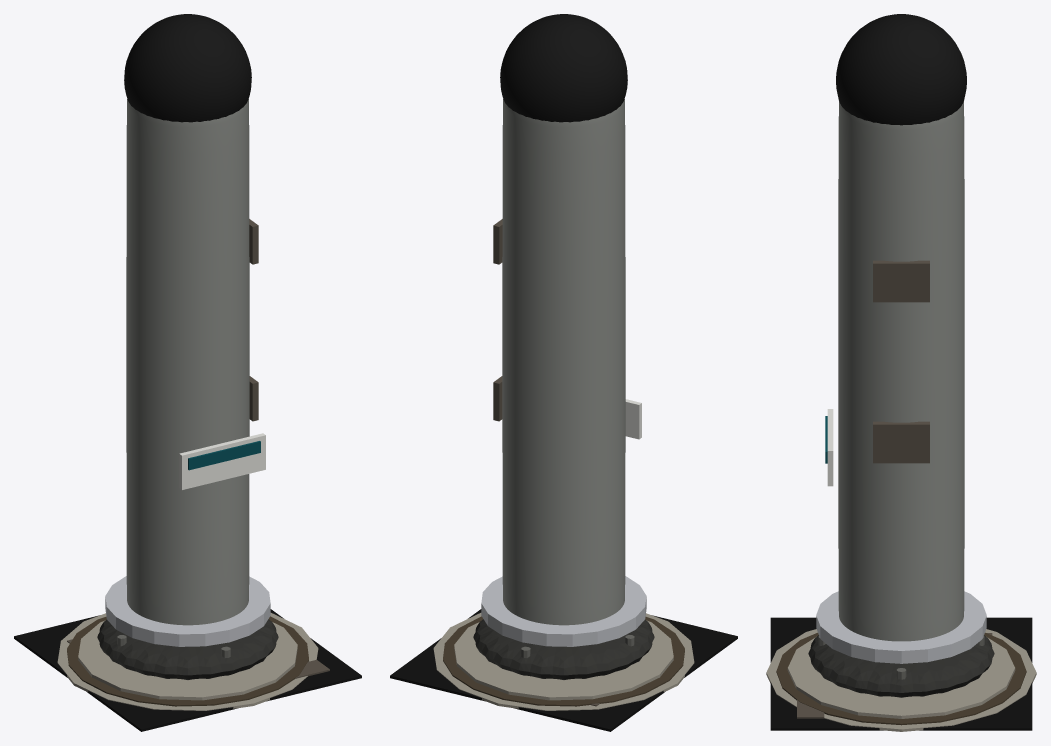
File: hm_prop_bollard_v2.obj
3 renders of one model, left to right at view 1: azimuth 30°, elevation 25°; view 2: azimuth 150°, elevation 25°; view 3: azimuth 270°, elevation 25°, orthographic. The views are drawn at different scales.
Visible parts, largest first — view 1: Bol_Post, Bol_Cap, Bol_Salt, Bol_Base, Bol_Ring, hm_prop_bollard_v2_Shadow, hm_prop_bollard_v2_Dirt, hm_prop_bollard_v2_SaltRing, hm_prop_bollard_v2_AssetPlate, hm_prop_bollard_v2_AssetBar; view 2: Bol_Post, Bol_Cap, Bol_Salt, Bol_Base, Bol_Ring, hm_prop_bollard_v2_Shadow, hm_prop_bollard_v2_Dirt, hm_prop_bollard_v2_SaltRing, hm_prop_bollard_v2_AssetPlate; view 3: Bol_Post, Bol_Cap, Bol_Salt, Bol_Base, hm_prop_bollard_v2_Shadow, Bol_Ring, hm_prop_bollard_v2_Dirt, hm_prop_bollard_v2_SaltRing, Bol_Scratch_0, Bol_Scratch_1, hm_prop_bollard_v2_AssetPlate.
Part boxes in pixels (box(x1,y1,x2,y2)): Bol_Post: box(126, 99, 249, 625); Bol_Cap: box(124, 14, 251, 122); Bol_Salt: box(78, 620, 297, 700); Bol_Base: box(97, 619, 278, 679); Bol_Ring: box(105, 576, 270, 646); hm_prop_bollard_v2_Shadow: box(14, 609, 361, 731); hm_prop_bollard_v2_Dirt: box(67, 616, 308, 706); hm_prop_bollard_v2_SaltRing: box(57, 613, 318, 710); hm_prop_bollard_v2_AssetPlate: box(179, 433, 265, 489); hm_prop_bollard_v2_AssetBar: box(188, 441, 260, 470); Bol_Post: box(502, 99, 625, 625); Bol_Cap: box(500, 14, 627, 122); Bol_Salt: box(454, 620, 673, 700); Bol_Base: box(473, 619, 654, 679); Bol_Ring: box(481, 576, 646, 646); hm_prop_bollard_v2_Shadow: box(390, 609, 737, 731); hm_prop_bollard_v2_Dirt: box(443, 616, 684, 706); hm_prop_bollard_v2_SaltRing: box(433, 613, 694, 710); hm_prop_bollard_v2_AssetPlate: box(625, 399, 641, 439); Bol_Post: box(838, 101, 964, 641); Bol_Cap: box(836, 14, 966, 125); Bol_Salt: box(787, 637, 1015, 718); Bol_Base: box(808, 635, 994, 697); hm_prop_bollard_v2_Shadow: box(770, 617, 1032, 730); Bol_Ring: box(816, 591, 986, 663); hm_prop_bollard_v2_Dirt: box(776, 632, 1026, 725); hm_prop_bollard_v2_SaltRing: box(766, 629, 1036, 731); Bol_Scratch_0: box(873, 421, 929, 463); Bol_Scratch_1: box(873, 260, 929, 302); hm_prop_bollard_v2_AssetPlate: box(827, 409, 833, 486).
Size of the model in its own units: 0.3802 by 1.02 by 0.3802.
